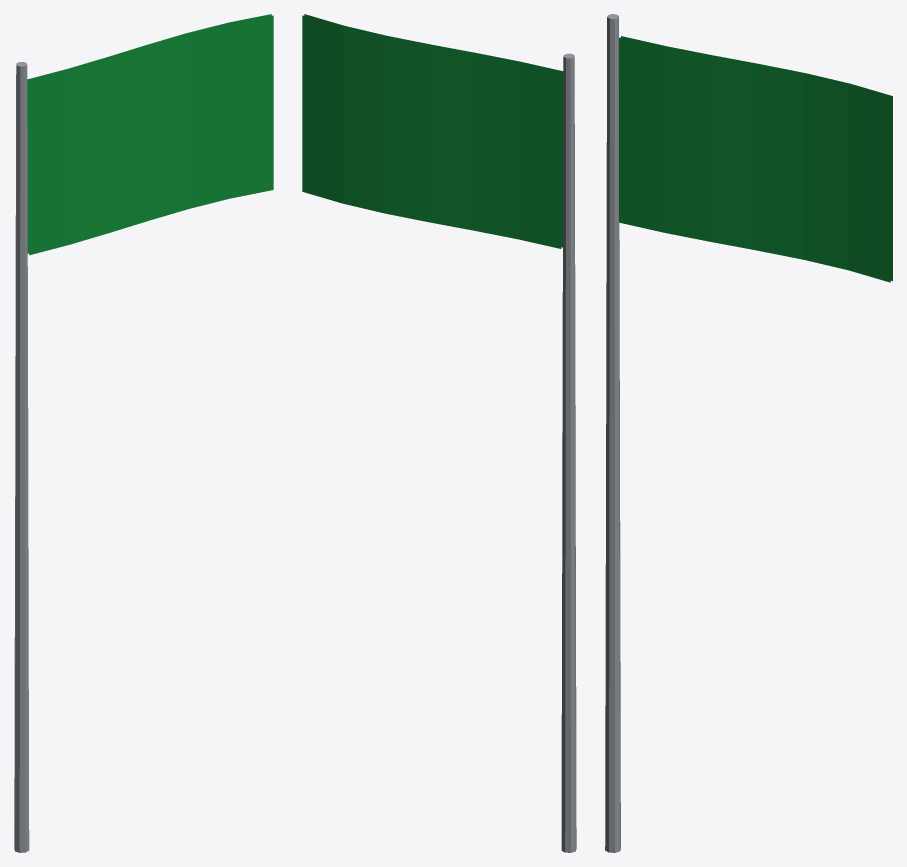
File: flagGreen.glb
3 views of the same model, side by side, from view 1: azimuth 30°, elevation 25°; view 2: azimuth 150°, elevation 25°; view 3: azimuth 330°, elevation 25° (orthographic). The views are drawn at different scales.
Parts seen in each view (by area): view 1: flag; view 2: flag; view 3: flag.
Boxes of the visible parts, x1,y1,x2,y2 form: flag: (14,14,273,852); flag: (302,14,576,852); flag: (605,14,892,852).
Size of the model in its own units: 1.58 by 4.5 by 0.1328.
